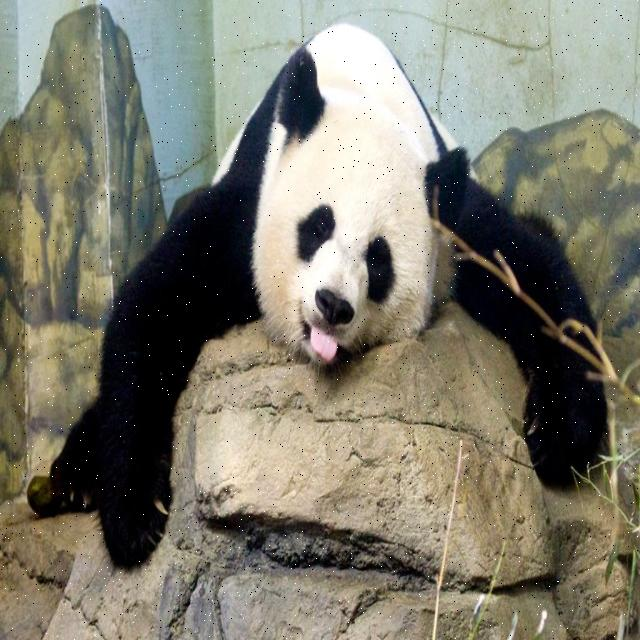panda: (45, 16, 607, 577)
